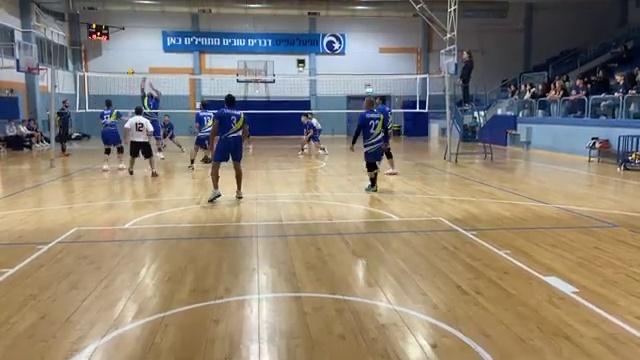ball: (126, 69, 137, 77)
